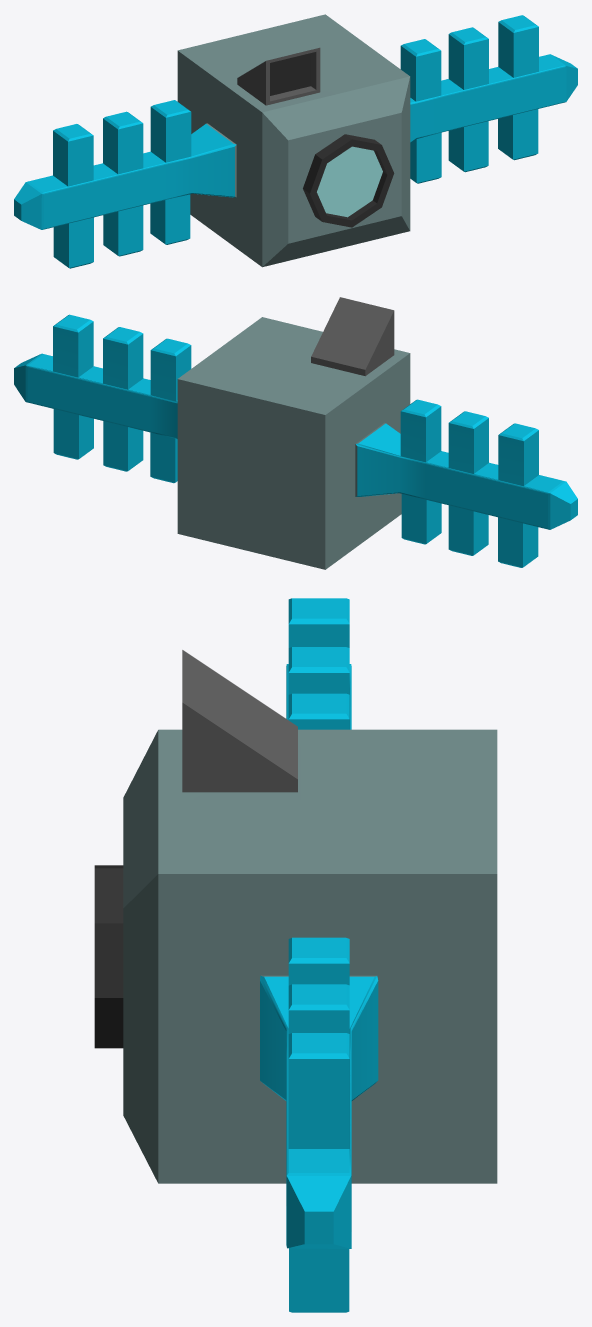
Rendered from buddybot.fbx.
3 renders of one model, top to bottom at view 1: azimuth 30°, elevation 25°; view 2: azimuth 150°, elevation 25°; view 3: azimuth 270°, elevation 25°, orthographic. The views are drawn at different scales.
Visible parts, largest first — view 1: buddybot; view 2: buddybot; view 3: buddybot.
Part boxes in pixels (x1,y1,x2,y2): buddybot: [14, 14, 577, 268]; buddybot: [14, 297, 577, 569]; buddybot: [94, 598, 497, 1312].
Bounding box in the file's own units: 22.58 × 7.74 × 7.07.
